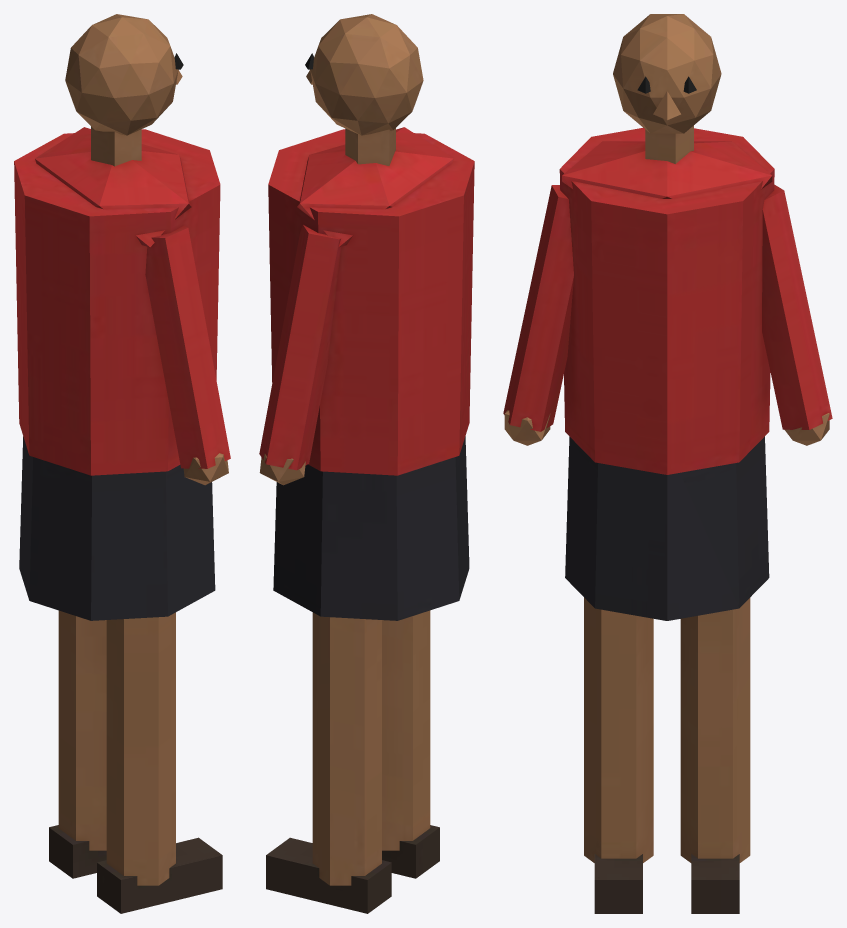
Rendered from barn_1_tex.glb.
3 views of the same model, side by side, from view 1: azimuth 30°, elevation 25°; view 2: azimuth 150°, elevation 25°; view 3: azimuth 270°, elevation 25° (orthographic).
Visible parts, largest first — view 1: barn_1; view 2: barn_1; view 3: barn_1.
Boxes of the visible parts, x1,y1,x2,y2 form: barn_1: (14,14,230,913); barn_1: (259,14,474,913); barn_1: (503,14,832,913).
Size of the model in its own units: 0.2857 by 1.27 by 0.4377.
Materials: 5 (4 with a texture image).
